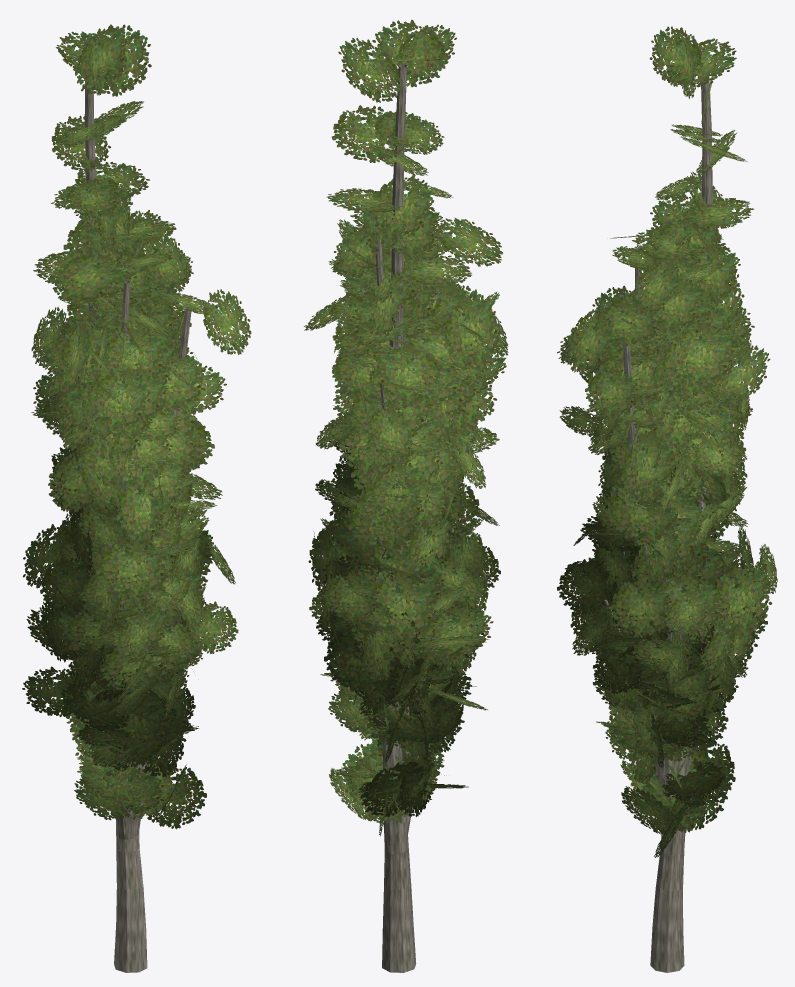
Rendered from Tree_Poplar_2.gltf.
3 views of the same model, side by side, from view 1: azimuth 30°, elevation 25°; view 2: azimuth 150°, elevation 25°; view 3: azimuth 270°, elevation 25° (orthographic). The views are drawn at different scales.
Visible parts, largest first — view 1: Tree_Poplar_2; view 2: Tree_Poplar_2; view 3: Tree_Poplar_2.
Boxes of the visible parts, box(x1,y1,x2,y2) form: Tree_Poplar_2: box(22, 24, 251, 972); Tree_Poplar_2: box(304, 19, 508, 972); Tree_Poplar_2: box(557, 26, 777, 972).
Size of the model in its own units: 5.05 by 22.98 by 5.18.
Materials: 2 (2 with a texture image).
